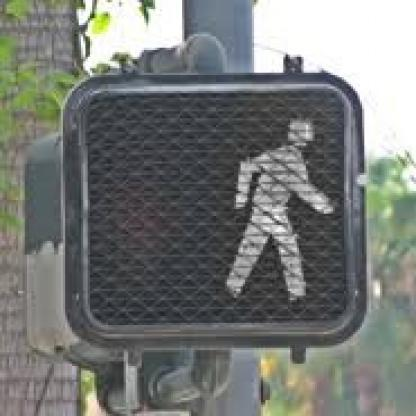Walk: (70, 82, 366, 338)
